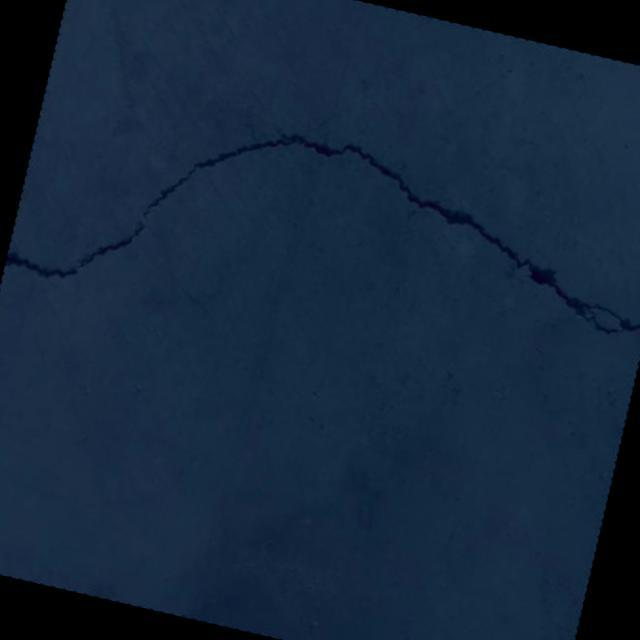crack: (3, 73, 640, 414)
